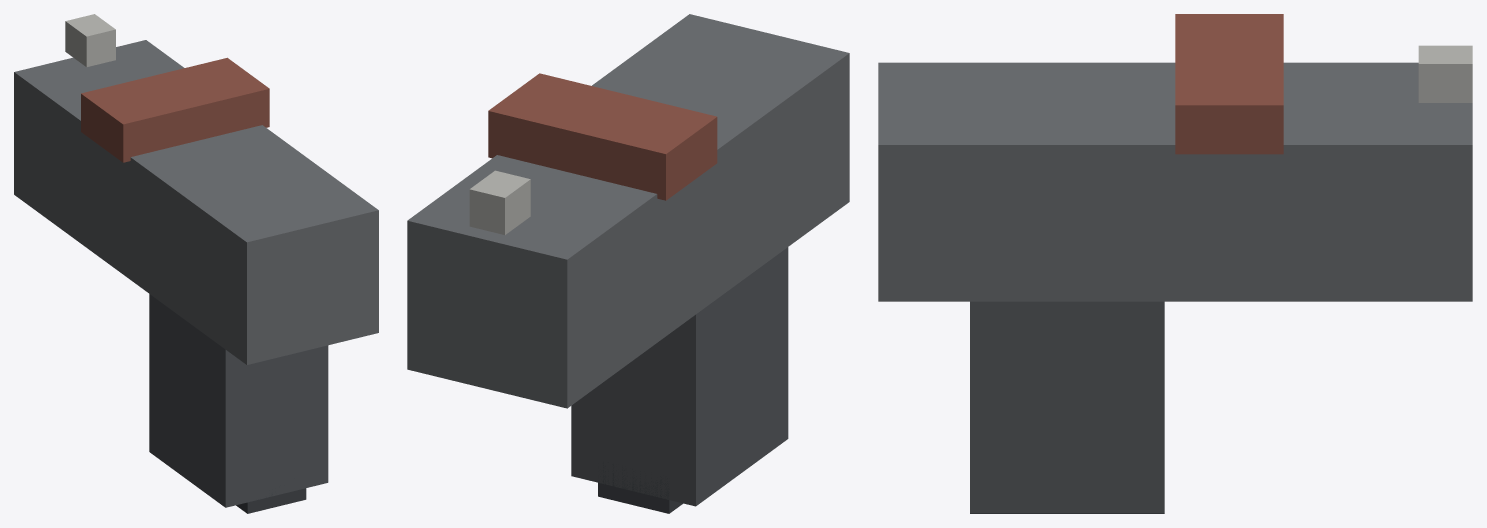
File: pistol.glb
The picture shows the model from 3 angles, left to right: view 1: azimuth 30°, elevation 25°; view 2: azimuth 150°, elevation 25°; view 3: azimuth 270°, elevation 25°; orthographic projection. The views are drawn at different scales.
Visible parts, largest first — view 1: world; view 2: world; view 3: world.
Boxes of the visible parts, box(x1,y1,x2,y2) form: world: box(14, 14, 378, 513); world: box(407, 14, 849, 513); world: box(878, 14, 1472, 513).
Size of the model in its own units: 0.2 by 0.45 by 0.55.
